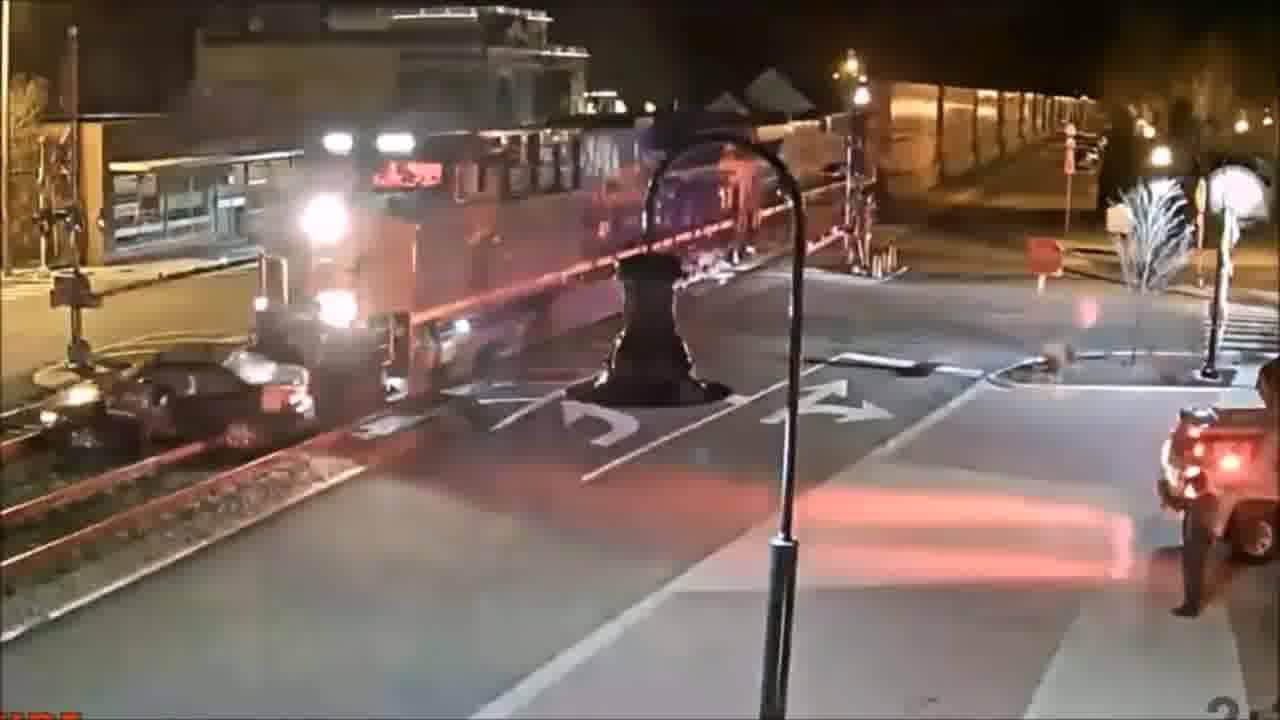crossing railway track: (27, 346, 317, 479)
